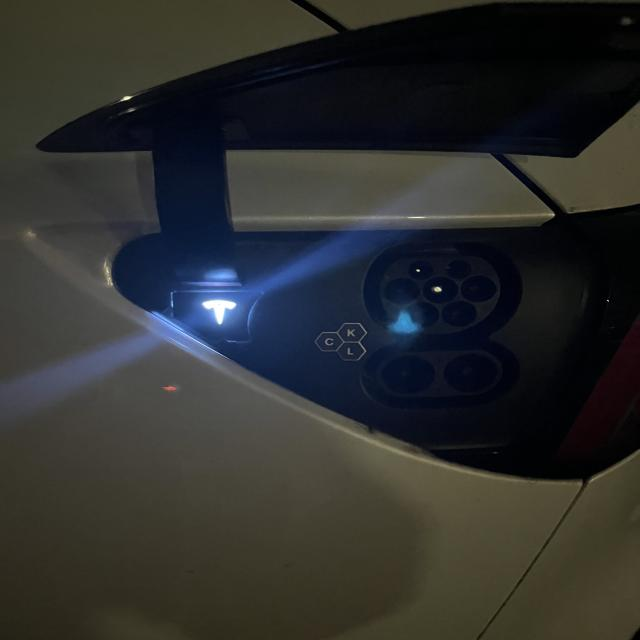inlet: (380, 256, 500, 334)
inlet-above-left: (409, 261, 433, 280)
inlet-above-right: (446, 260, 472, 279)
inlet-below-left: (405, 302, 439, 328)
inlet-below-right: (442, 301, 477, 327)
inlet-circle: (422, 277, 457, 304)
inlet-circle-left: (384, 278, 420, 305)
inlet-circle-right: (461, 276, 496, 303)
inlet-minus: (443, 354, 498, 393)
inlet-plus: (381, 355, 436, 394)
